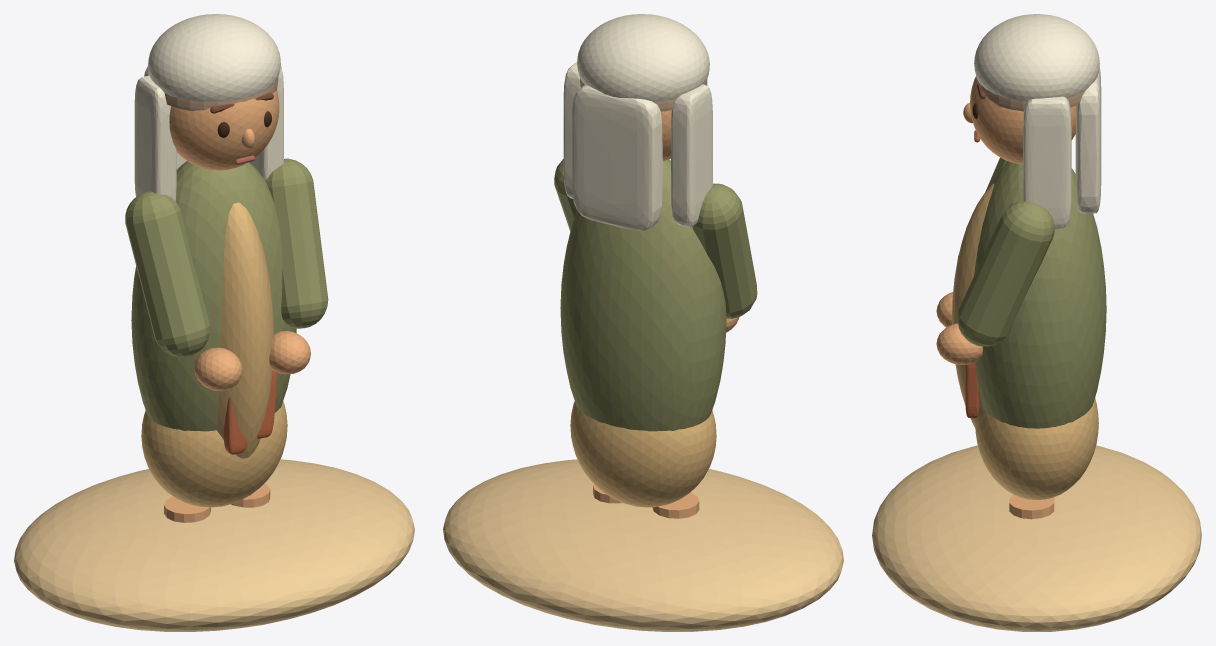
Rendered from trust_owner.glb.
The picture shows the model from 3 angles, left to right: view 1: azimuth 30°, elevation 25°; view 2: azimuth 150°, elevation 25°; view 3: azimuth 270°, elevation 25°; orthographic projection.
Visible parts, largest first — view 1: Base, Coat, Inner, Scarf_Top, Sleeve_R, Inner_Low, Sleeve_L, Head, Scarf_Side_R, Hand_R, Hand_L, Scarf_Side_L (+4 smaller); view 2: Base, Coat, Scarf_Back, Inner_Low, Scarf_Top, Scarf_Side_R, Sleeve_R, Scarf_Side_L, Leg_R, Sleeve_L; view 3: Base, Coat, Scarf_Top, Sleeve_L, Inner_Low, Scarf_Side_L, Scarf_Back, Head, Inner, Hand_L, Leg_L, Sash_T2 (+1 smaller).
Boxes of the visible parts, x1,y1,x2,y2 form: Base: (14,459,414,631); Coat: (131,161,296,431); Inner: (217,202,273,458); Scarf_Top: (148,14,280,101); Sleeve_R: (125,191,210,357); Inner_Low: (141,401,287,507); Sleeve_L: (265,158,328,328); Head: (169,90,279,170); Scarf_Side_R: (134,75,176,201); Hand_R: (194,347,242,390); Hand_L: (269,331,310,374); Scarf_Side_L: (249,65,283,179); Base: (443,459,843,631); Coat: (560,159,726,431); Scarf_Back: (571,85,662,230); Inner_Low: (570,401,716,507); Scarf_Top: (577,14,709,101); Scarf_Side_R: (671,84,712,227); Sleeve_R: (692,183,757,318); Scarf_Side_L: (563,61,580,198); Leg_R: (652,492,699,518); Sleeve_L: (554,159,576,230); Base: (872,445,1201,631); Coat: (974,161,1106,428); Scarf_Top: (974,14,1099,101); Sleeve_L: (957,200,1054,346); Inner_Low: (975,398,1098,500); Scarf_Side_L: (1022,96,1071,229); Scarf_Back: (1075,67,1101,213); Head: (970,77,1075,164); Inner: (952,183,994,428); Hand_L: (936,323,982,364); Leg_L: (1009,494,1054,519); Sash_T2: (965,362,978,418).
Bounding box in the file's own units: 1.11 × 1.64 × 0.8846.
